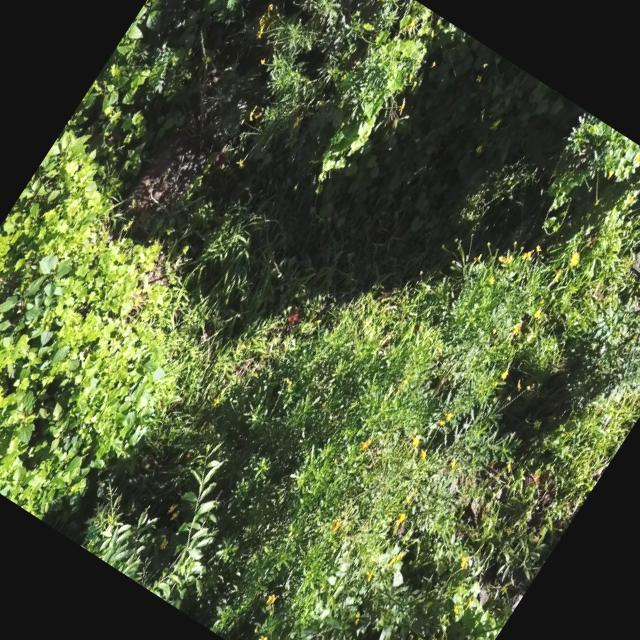Mysore-Thorn-Weed: (155, 0, 301, 34)
